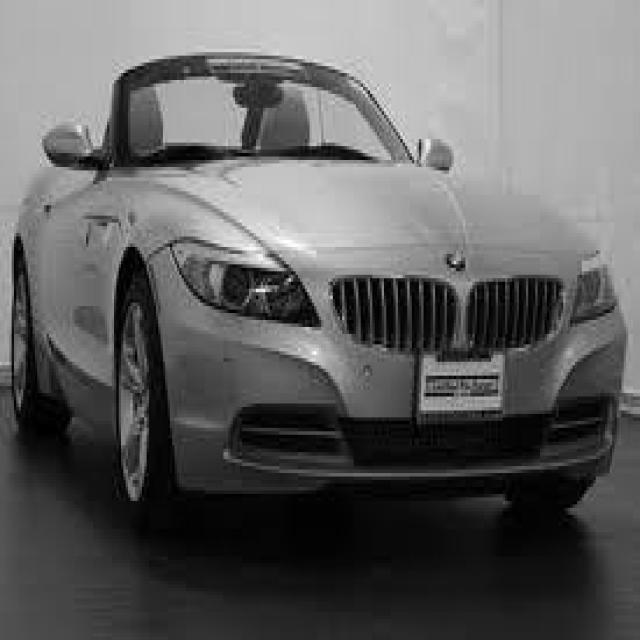car: (9, 49, 628, 518)
